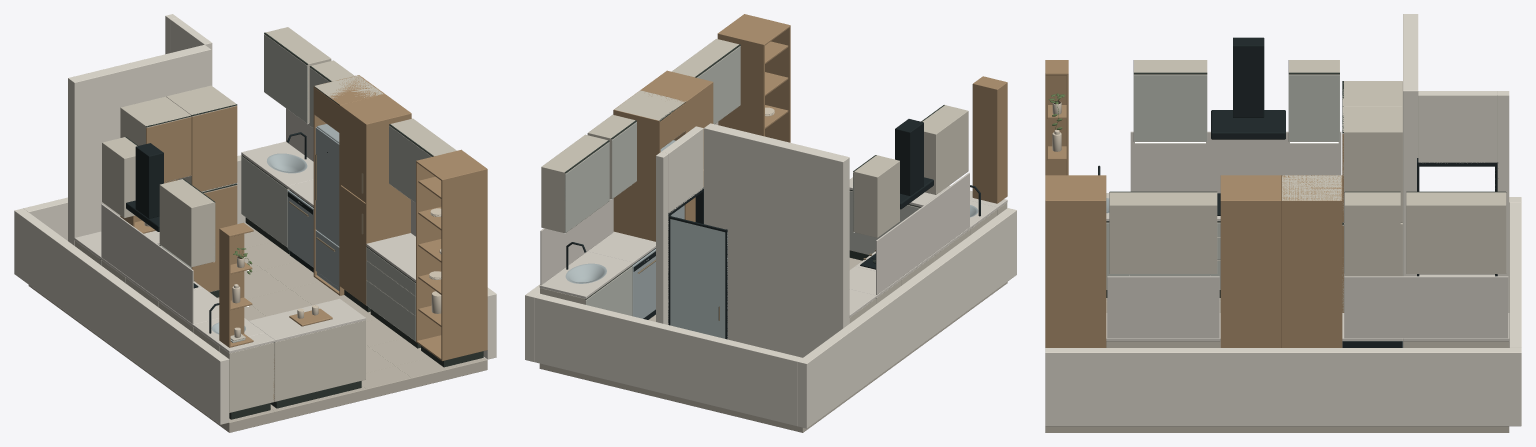
Rendered from user_sketch_kitchen-722223b12d05.glb.
The picture shows the model from 3 angles, left to right: view 1: azimuth 30°, elevation 25°; view 2: azimuth 150°, elevation 25°; view 3: azimuth 270°, elevation 25°; orthographic projection. The views are drawn at different scales.
Parts seen in each view (by area): view 1: Surface 10, Surface 3, Surface 7, Surface 2, Surface 1, Surface 9, Surface 11, Surface 8, Surface 4, Surface 14; view 2: Surface 3, Surface 10, Surface 7, Surface 2, Surface 9, Surface 5, Surface 4, Surface 11, Surface 1, Surface 8; view 3: Surface 3, Surface 7, Surface 10, Surface 2, Surface 9, Surface 4, Surface 1, Surface 8.
Boxes of the visible parts, x1,y1,x2,y2 form: Surface 10: (120, 75, 487, 400); Surface 3: (14, 14, 496, 424); Surface 7: (75, 27, 456, 412); Surface 2: (74, 108, 415, 353); Surface 1: (28, 223, 487, 432); Surface 9: (100, 34, 431, 342); Surface 11: (211, 124, 339, 334); Surface 8: (100, 32, 483, 419); Surface 4: (126, 132, 327, 333); Surface 14: (144, 208, 441, 337); Surface 3: (525, 123, 1016, 428); Surface 10: (613, 14, 1007, 241); Surface 7: (540, 39, 1007, 323); Surface 2: (539, 122, 1007, 317); Surface 9: (564, 46, 919, 316); Surface 5: (670, 219, 727, 338); Surface 4: (566, 119, 980, 339); Surface 11: (565, 140, 978, 318); Surface 1: (539, 258, 1007, 432); Surface 8: (564, 44, 944, 299); Surface 3: (1045, 14, 1521, 426); Surface 7: (1106, 60, 1509, 347); Surface 10: (1045, 60, 1343, 347); Surface 2: (1106, 131, 1509, 341); Surface 9: (1106, 75, 1339, 289); Surface 4: (1098, 37, 1497, 347); Surface 1: (1045, 298, 1509, 432); Surface 8: (1106, 72, 1506, 297).
Size of the model in its own units: 3.64 by 2.98 by 4.7.
